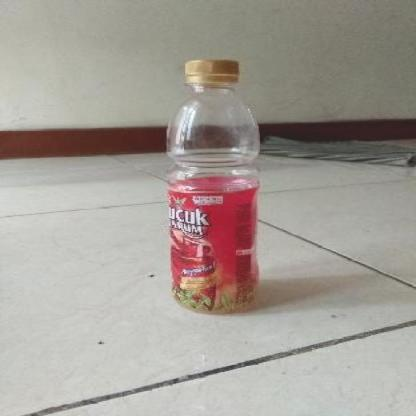plastic_bottles: (158, 56, 269, 316)
